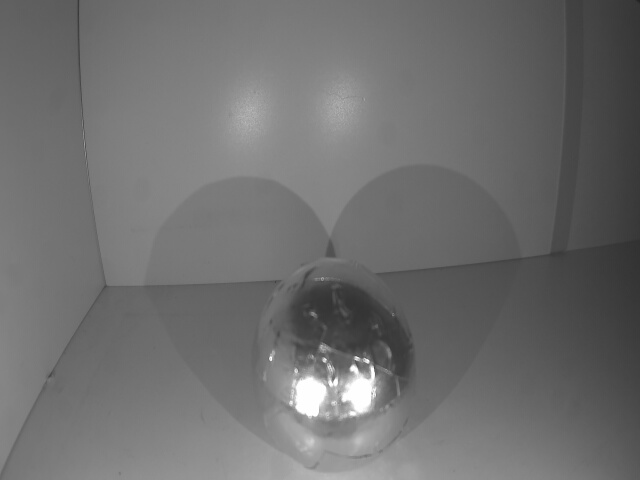Live: (249, 259, 418, 480)
